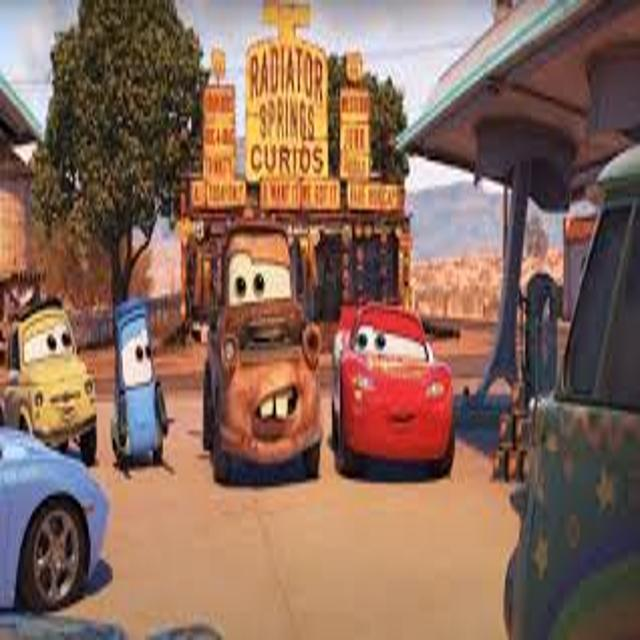car: (202, 224, 319, 478), (333, 304, 453, 476), (1, 424, 110, 610), (112, 300, 172, 469)
